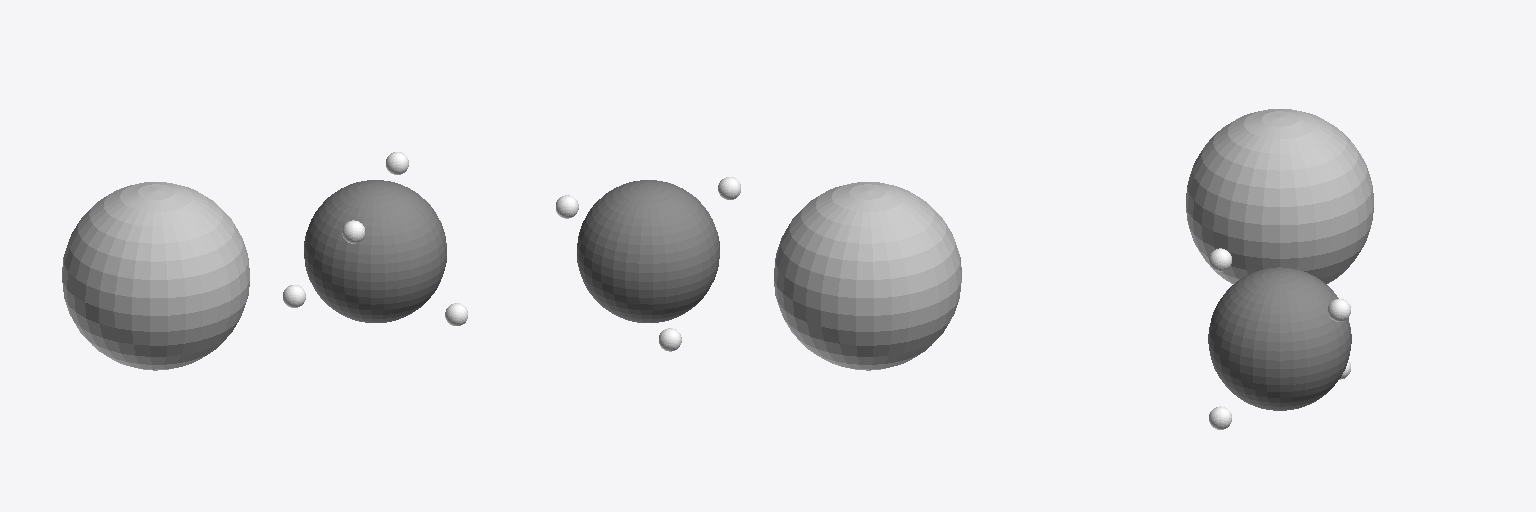
The picture shows the model from 3 angles: view 1: azimuth 30°, elevation 25°; view 2: azimuth 150°, elevation 25°; view 3: azimuth 270°, elevation 25°; orthographic projection.
Parts seen in each view (by area): view 1: Sphere, CH4_C, CH4; view 2: Sphere, CH4_C, CH4; view 3: Sphere, CH4_C, CH4.
Part boxes in pixels (bbox=[...]): Sphere: bbox=[62, 182, 249, 370]; CH4_C: bbox=[304, 180, 446, 322]; CH4: bbox=[283, 152, 467, 325]; Sphere: bbox=[774, 182, 961, 370]; CH4_C: bbox=[577, 180, 719, 322]; CH4: bbox=[556, 177, 740, 351]; Sphere: bbox=[1186, 109, 1373, 284]; CH4_C: bbox=[1208, 267, 1351, 410]; CH4: bbox=[1209, 248, 1350, 429].
Size of the model in its own units: 4.44 by 2.1 by 2.